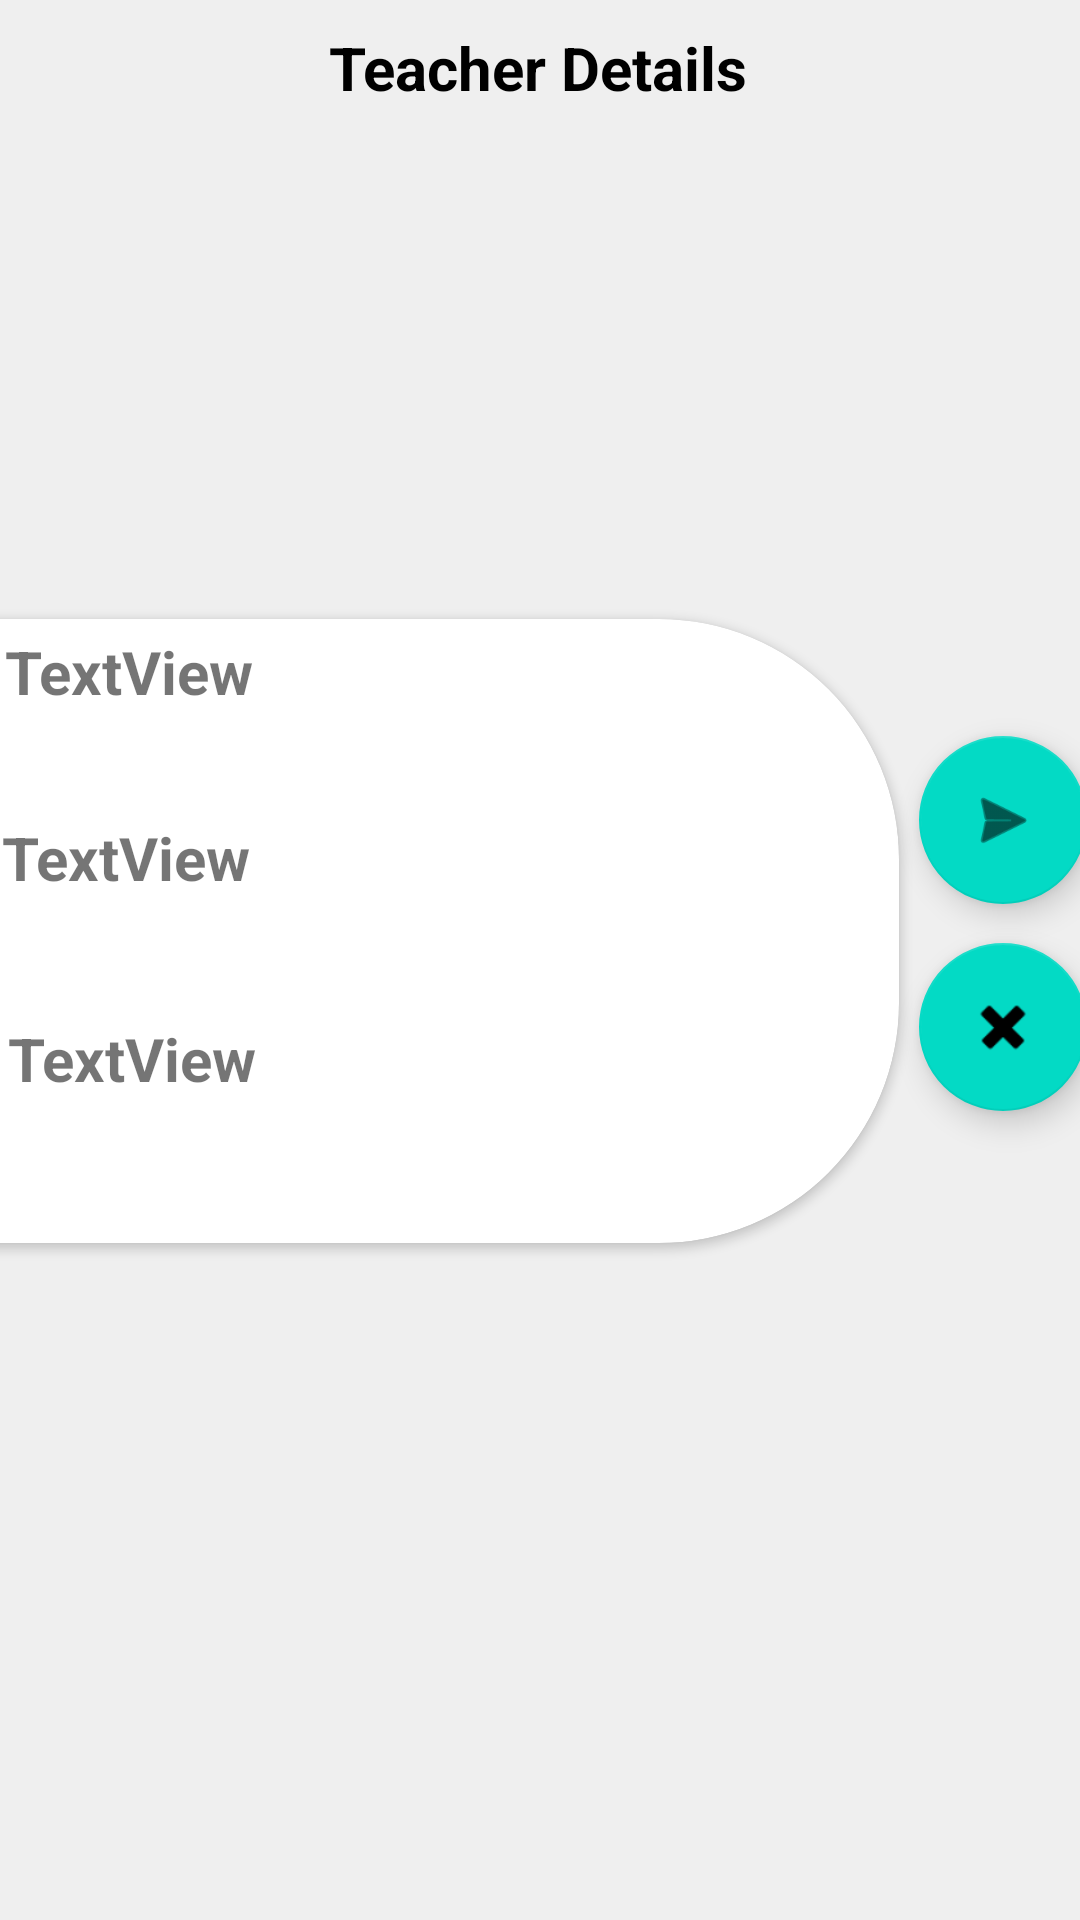

Where to tap for icons on this 1080w x 1920h app screen, as point (x, y):
delete: point (999, 1027)
send: point (999, 820)
